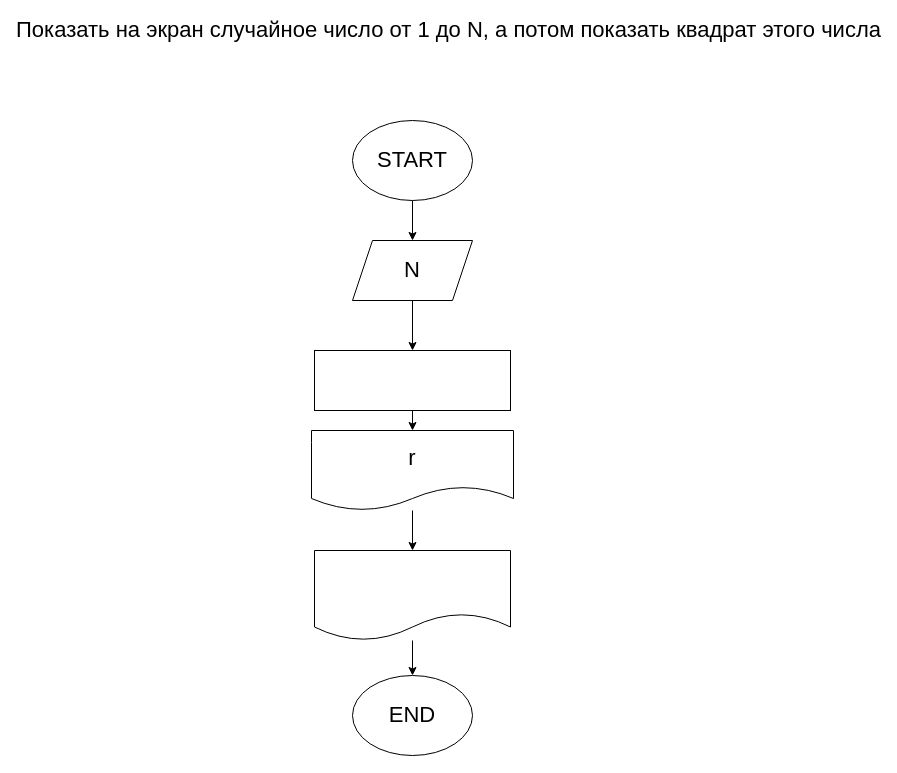
Image size: 897x773. Some labels were removed from this diagram. The shapes that lost their labels are listed below. From the top down, each one's centre as x and y in pixels, then its label:
(412,380): r = random (1, N)
(412,595): math.pow(r,2)
